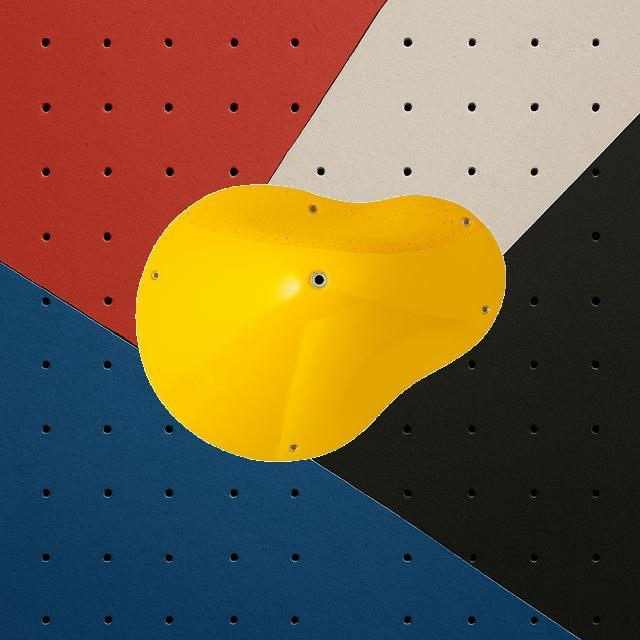Sloper: (136, 184, 504, 462)
